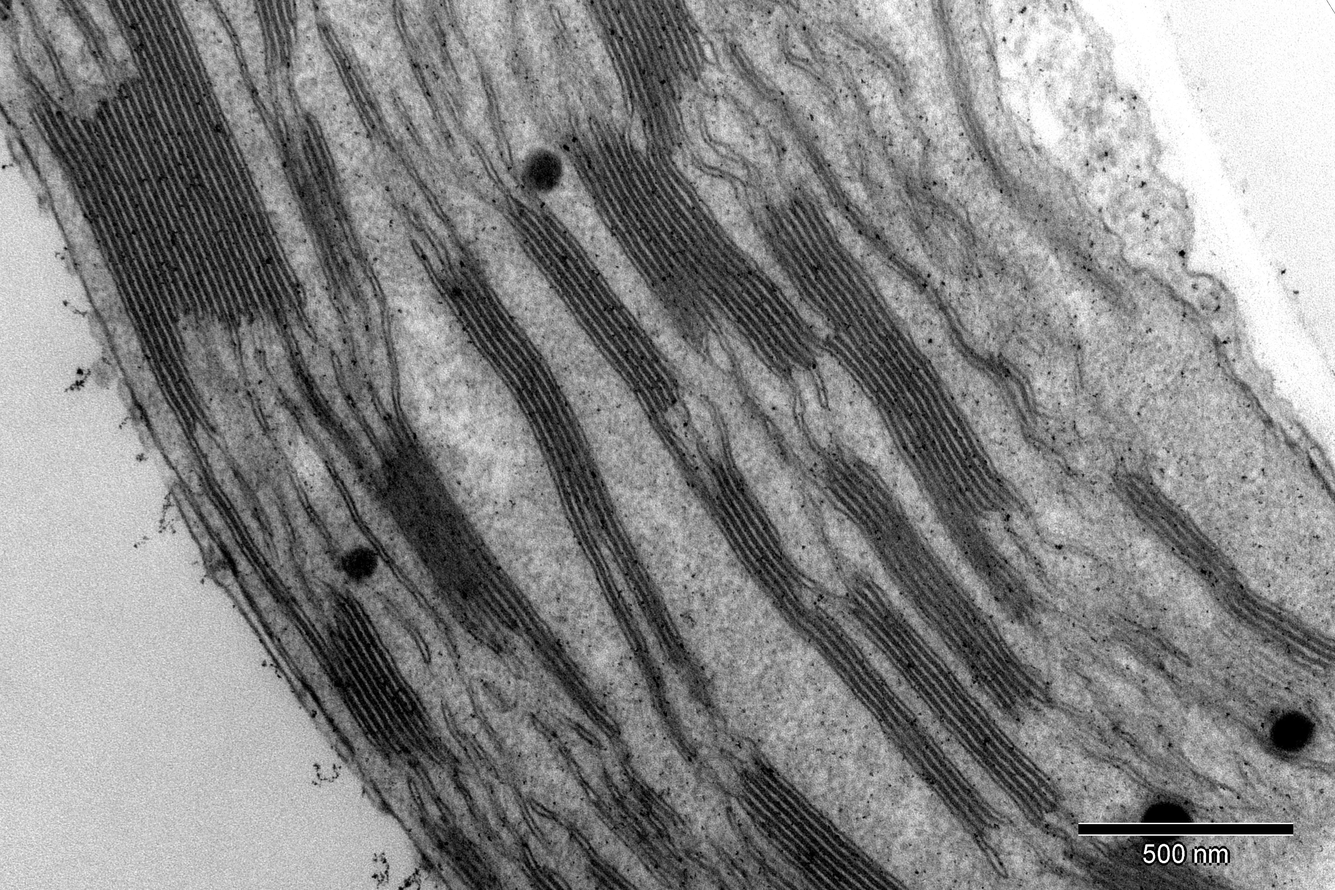granum: (744, 181, 1052, 634), (425, 251, 705, 679), (19, 54, 310, 431), (351, 412, 624, 734), (551, 116, 827, 382), (799, 441, 1049, 718), (835, 567, 1069, 833), (783, 599, 1020, 850), (1101, 460, 1335, 695), (505, 194, 694, 426), (304, 586, 468, 776), (730, 747, 913, 890), (675, 459, 819, 626), (260, 107, 371, 314), (576, 0, 723, 147), (1058, 839, 1245, 890), (593, 774, 685, 877), (418, 805, 512, 890), (101, 0, 203, 77), (323, 40, 393, 145), (978, 348, 1053, 433), (248, 0, 301, 79), (524, 861, 576, 889), (590, 865, 639, 890)
